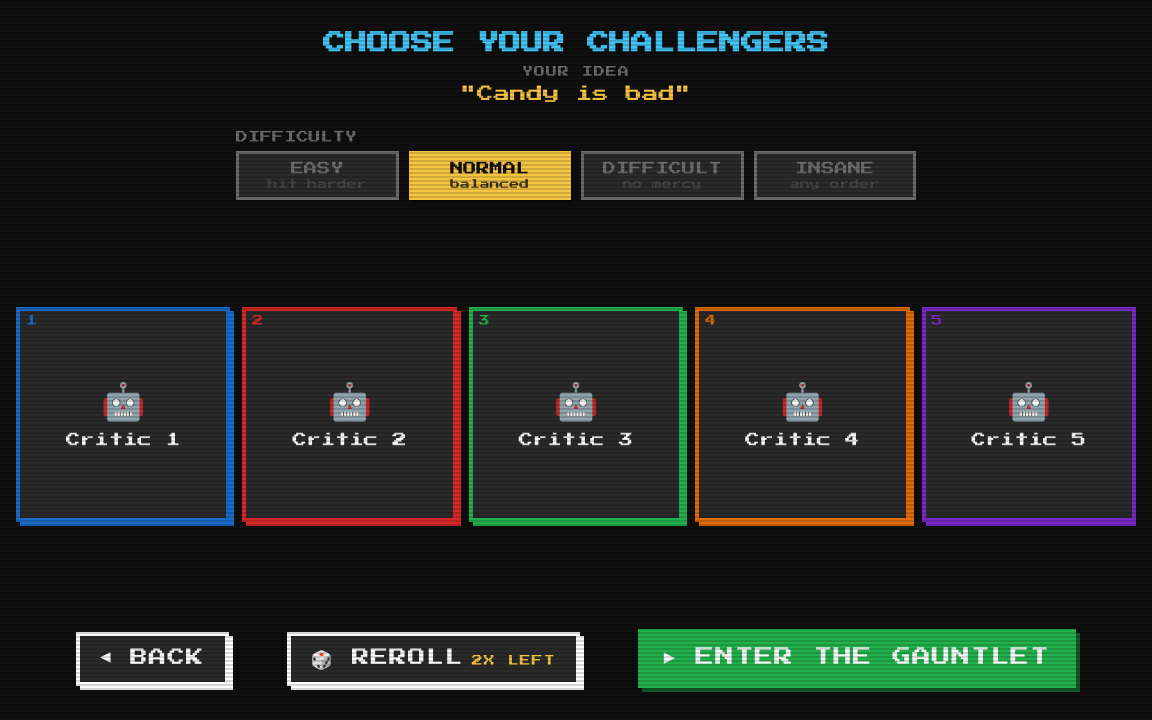
Test: ChallengerSelectScreen › uses the ordered lineup for in-order tiers and the grid for free choice
This screenshot has width=1152, height=720.
Expected: the element with test id "challenger-lineup" is shown, [16,308,1136,522]
Click the text "INSANE". click: {"x": 835, "y": 169}
box: [795,162,874,175]
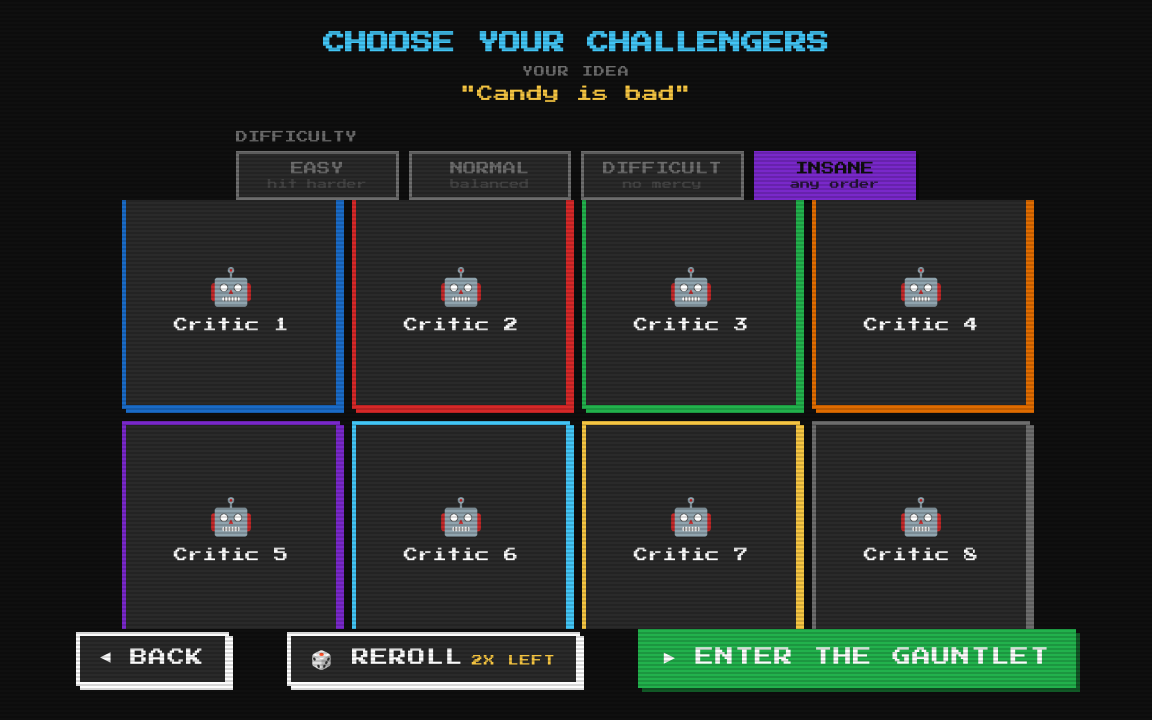
Now the element with test id "challenger-grid" is shown, box [122,200,1030,629]
